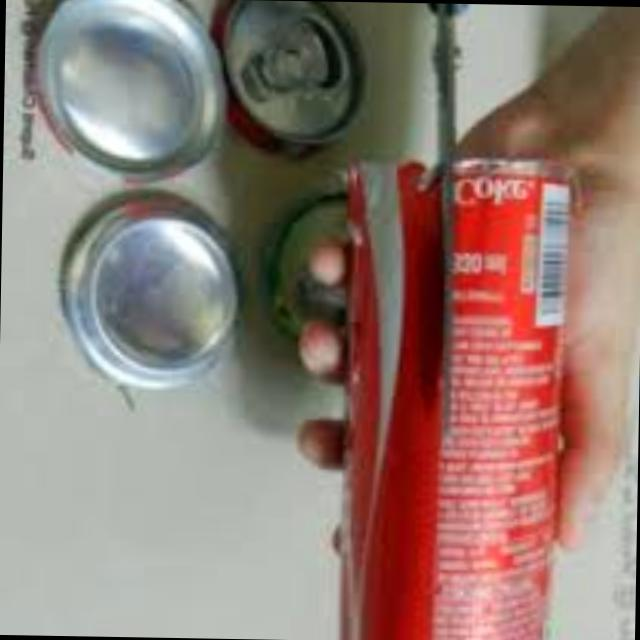metal: (345, 2, 569, 640)
